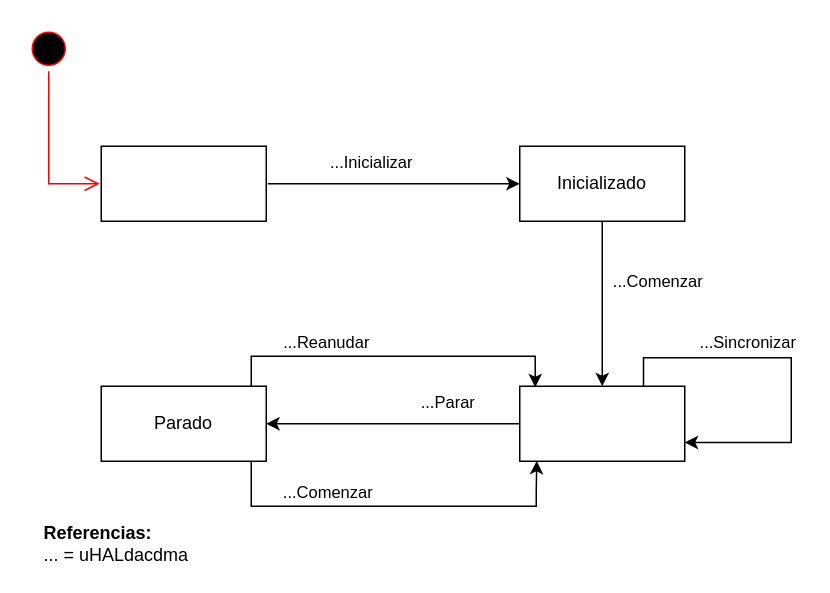
Some shapes in this 830 by 593 pixel diagram are drawn without their labels. Each missing label, with the centre of its shape:
Activo: the point at 601,423
Desinicializado: the point at 183,183
